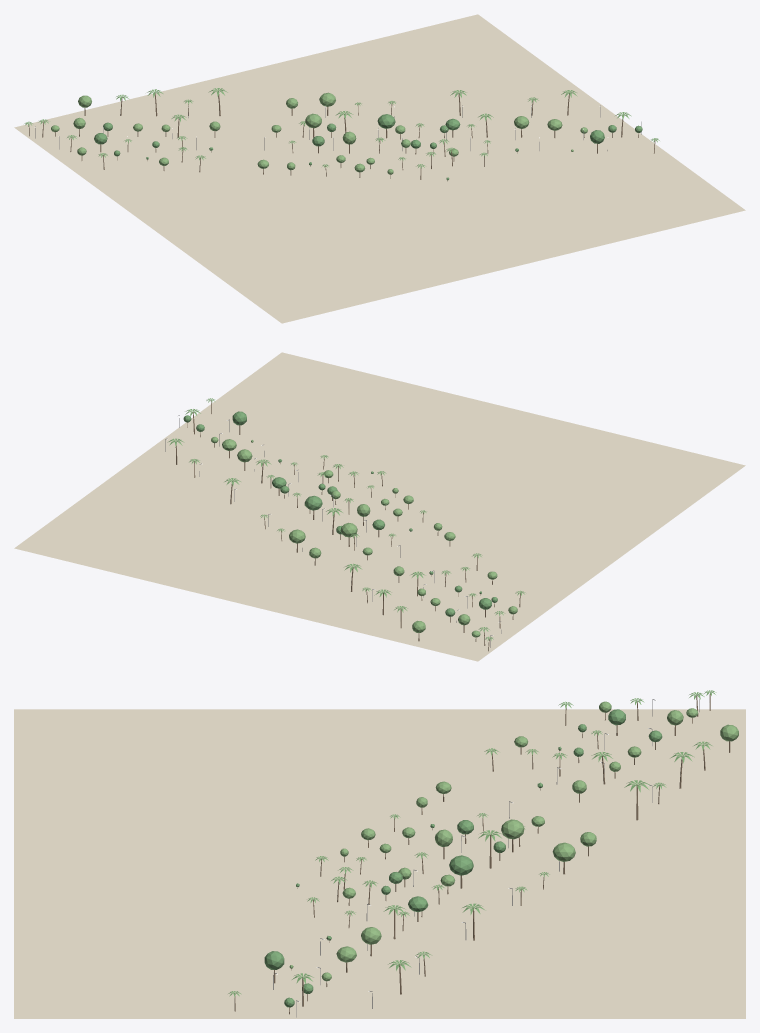
Rendered from nature_1_0.glb.
The picture shows the model from 3 angles, top to bottom: view 1: azimuth 30°, elevation 25°; view 2: azimuth 150°, elevation 25°; view 3: azimuth 270°, elevation 25°; orthographic projection. The views are drawn at different scales.
Visible parts, largest first — view 1: ground, foliage_b, foliage_a, palm_leaf, trunk; view 2: ground, foliage_b, palm_leaf, foliage_a, trunk; view 3: ground, foliage_b, foliage_a, palm_leaf, trunk.
Boxes of the visible parts, left/top/right/bottom form: ground: left=14, top=14, right=745, bottom=323; foliage_b: left=51, top=92, right=587, bottom=174; foliage_a: left=94, top=114, right=642, bottom=180; palm_leaf: left=24, top=88, right=659, bottom=168; trunk: left=28, top=93, right=655, bottom=181; ground: left=14, top=352, right=745, bottom=661; foliage_b: left=211, top=437, right=517, bottom=637; palm_leaf: left=167, top=398, right=525, bottom=640; foliage_a: left=183, top=411, right=497, bottom=616; trunk: left=175, top=400, right=520, bottom=651; ground: left=14, top=709, right=745, bottom=1018; foliage_b: left=289, top=701, right=738, bottom=981; foliage_a: left=264, top=709, right=662, bottom=1007; palm_leaf: left=228, top=690, right=716, bottom=997; trunk: left=234, top=694, right=730, bottom=1014.
Bounding box in the file's own units: 252 × 13.56 × 250.
